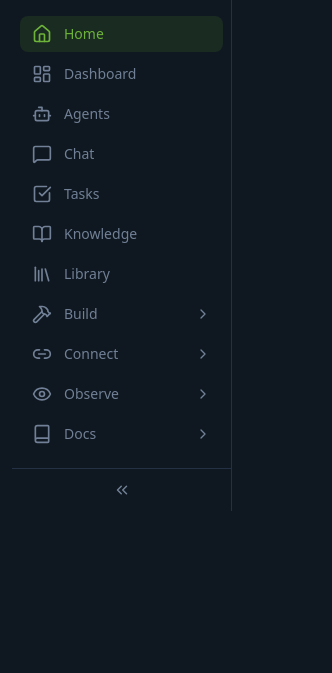
Sidebar › renders Build/Connect/Observe nav groups
This screenshot has width=332, height=673.
Click the button "Build" at x=122, y=314, box [20,296,223,332]
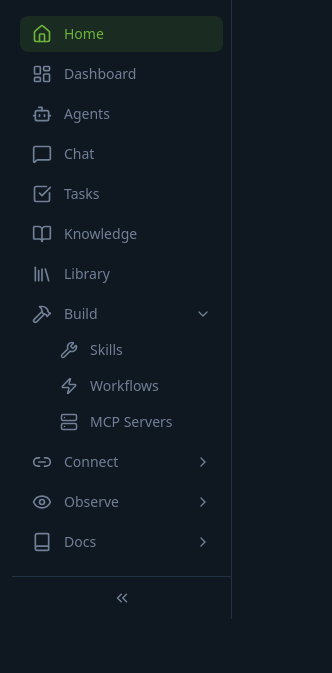
Now the link "Skills" is shown, box [60,340,123,359]
Click the button "Connect" at x=122, y=462, box [20,444,223,480]
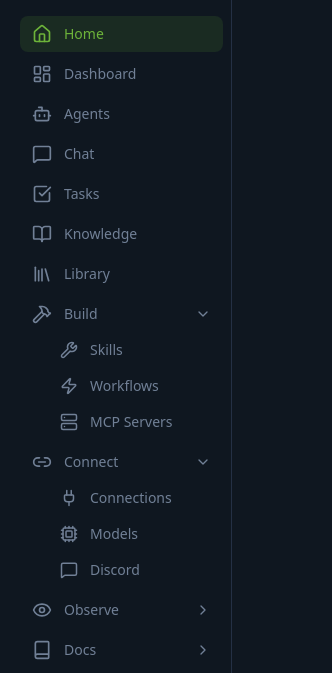
Now the link "Connections" is shown, box [60,488,172,507]
Now the link "Models" is shown, box [60,524,138,543]
Click the button "Observe" at x=122, y=610, box [20,592,223,628]
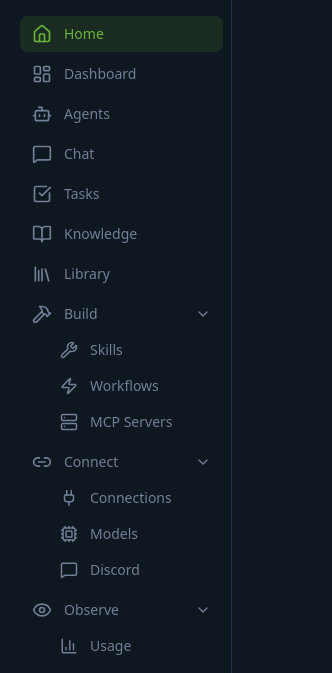
Now the link "Usage" is shown, box [60,636,131,655]
